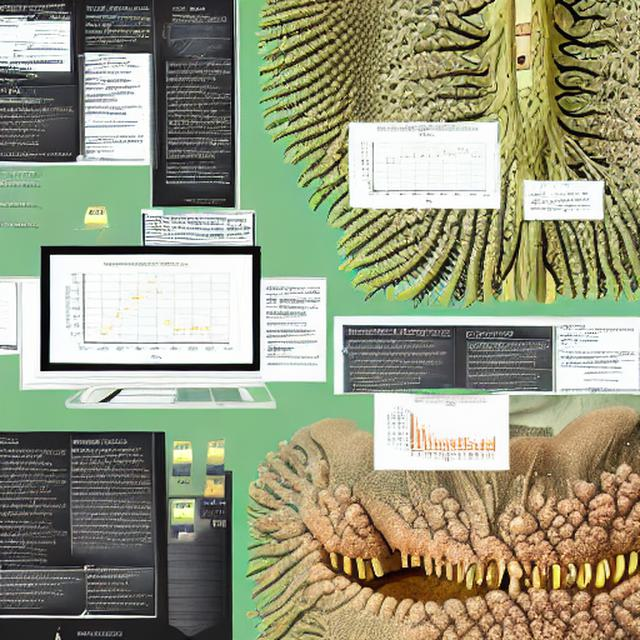Graph: (61, 259, 236, 360), (357, 125, 491, 205), (396, 399, 498, 466), (160, 13, 233, 57)
